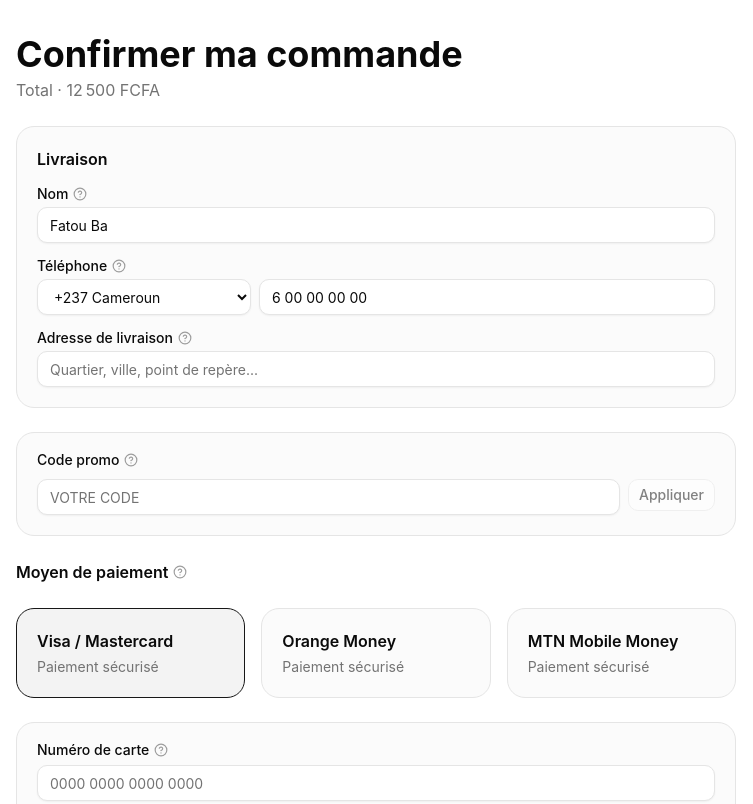
Scenario: PaymentMethodPageContent › shows why a promo code is refused and keeps the full price
In the field labelled "Code promo": (328, 497) [37,479,620,515], type "vieux"
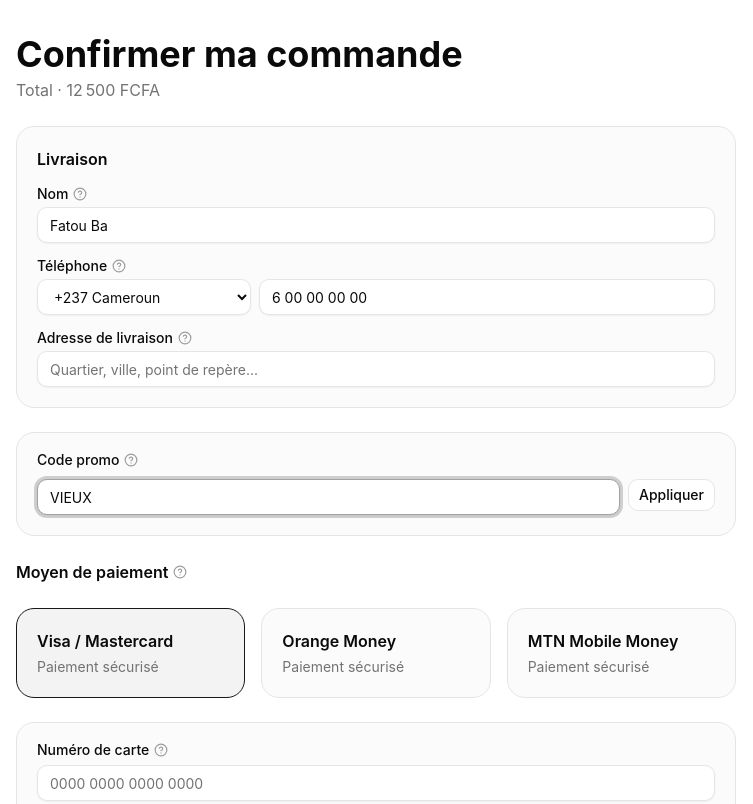
Click the button "Appliquer": click(672, 495) [628,479,715,511]
(page scrolled)
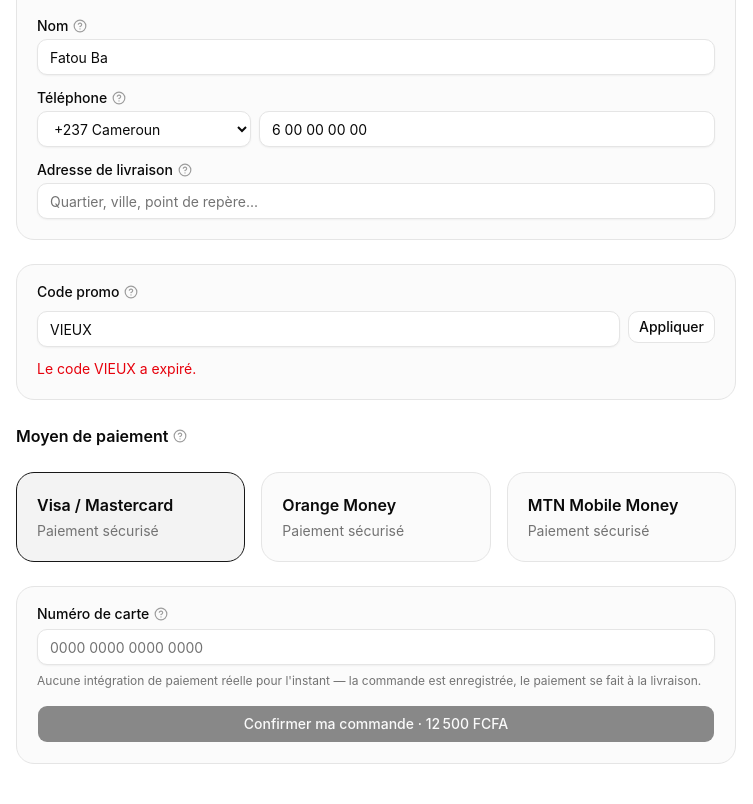
Expected: the button "Confirmer ma commande · 12 500 FCFA" is shown, [37,705,715,743]
Result: the message reads "Le code VIEUX a expiré." at [37,360,196,377]
